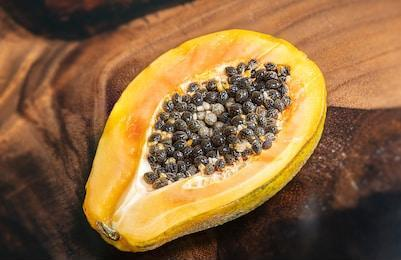papaya: (86, 30, 328, 253)
